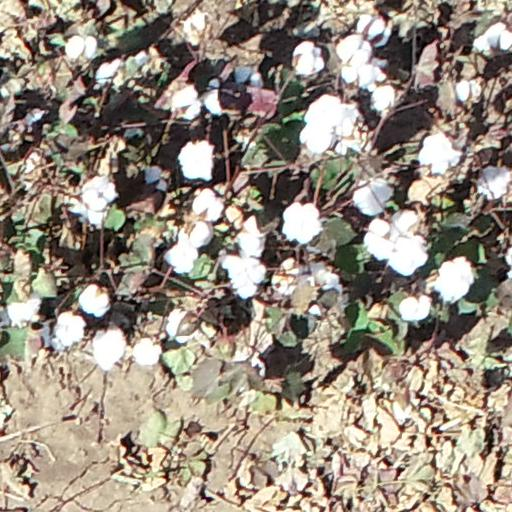Boll: (307, 97, 356, 136), (435, 256, 473, 301), (419, 133, 459, 172), (284, 202, 321, 242), (180, 142, 215, 184), (226, 257, 264, 294), (94, 327, 124, 367), (83, 177, 117, 211), (362, 220, 394, 256), (395, 235, 426, 272), (166, 242, 201, 274), (299, 125, 338, 153), (292, 42, 325, 75), (9, 300, 44, 331), (355, 180, 389, 211), (355, 15, 389, 45), (240, 221, 267, 258), (479, 166, 508, 200), (476, 22, 510, 51), (172, 85, 201, 119), (78, 285, 109, 315), (400, 292, 432, 321), (171, 309, 197, 343), (343, 61, 377, 86), (66, 35, 100, 60), (194, 190, 222, 220), (181, 221, 215, 245), (56, 314, 82, 345), (338, 36, 369, 62), (390, 212, 418, 237), (184, 14, 211, 39), (204, 86, 228, 114), (97, 62, 123, 87), (135, 338, 159, 365), (369, 84, 394, 109), (458, 79, 479, 104)
